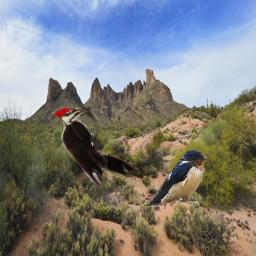Swallow: (143, 149, 209, 207)
Woodpecker: (51, 107, 144, 188)
